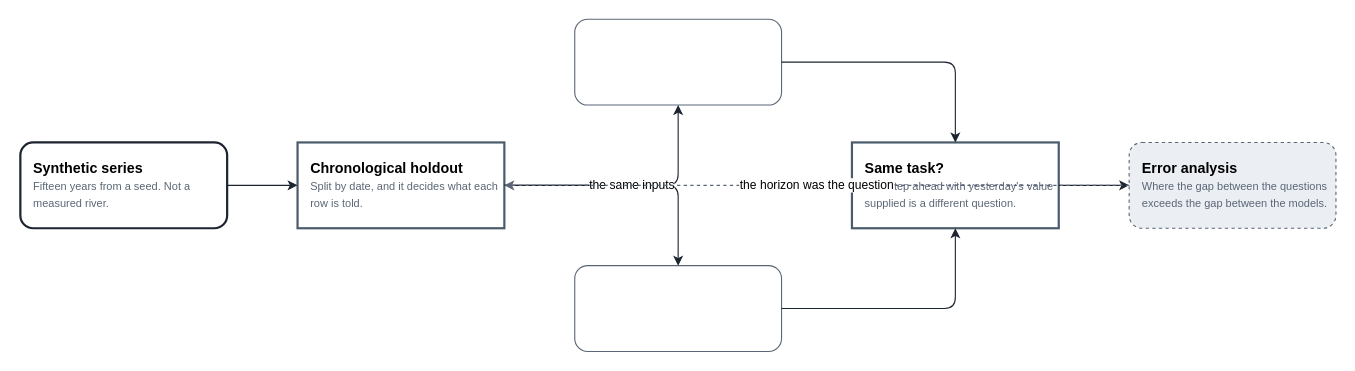
Some shapes in this 1355 by 371 pixel diagram are drawn without their labels. Each missing label, with the centre of its shape:
Daily baselines Persistence and seasonal naive, given the same information.: point (678, 308)
Five-seed repeat The same fit five times, so one seed cannot be the result.: point (678, 61)
